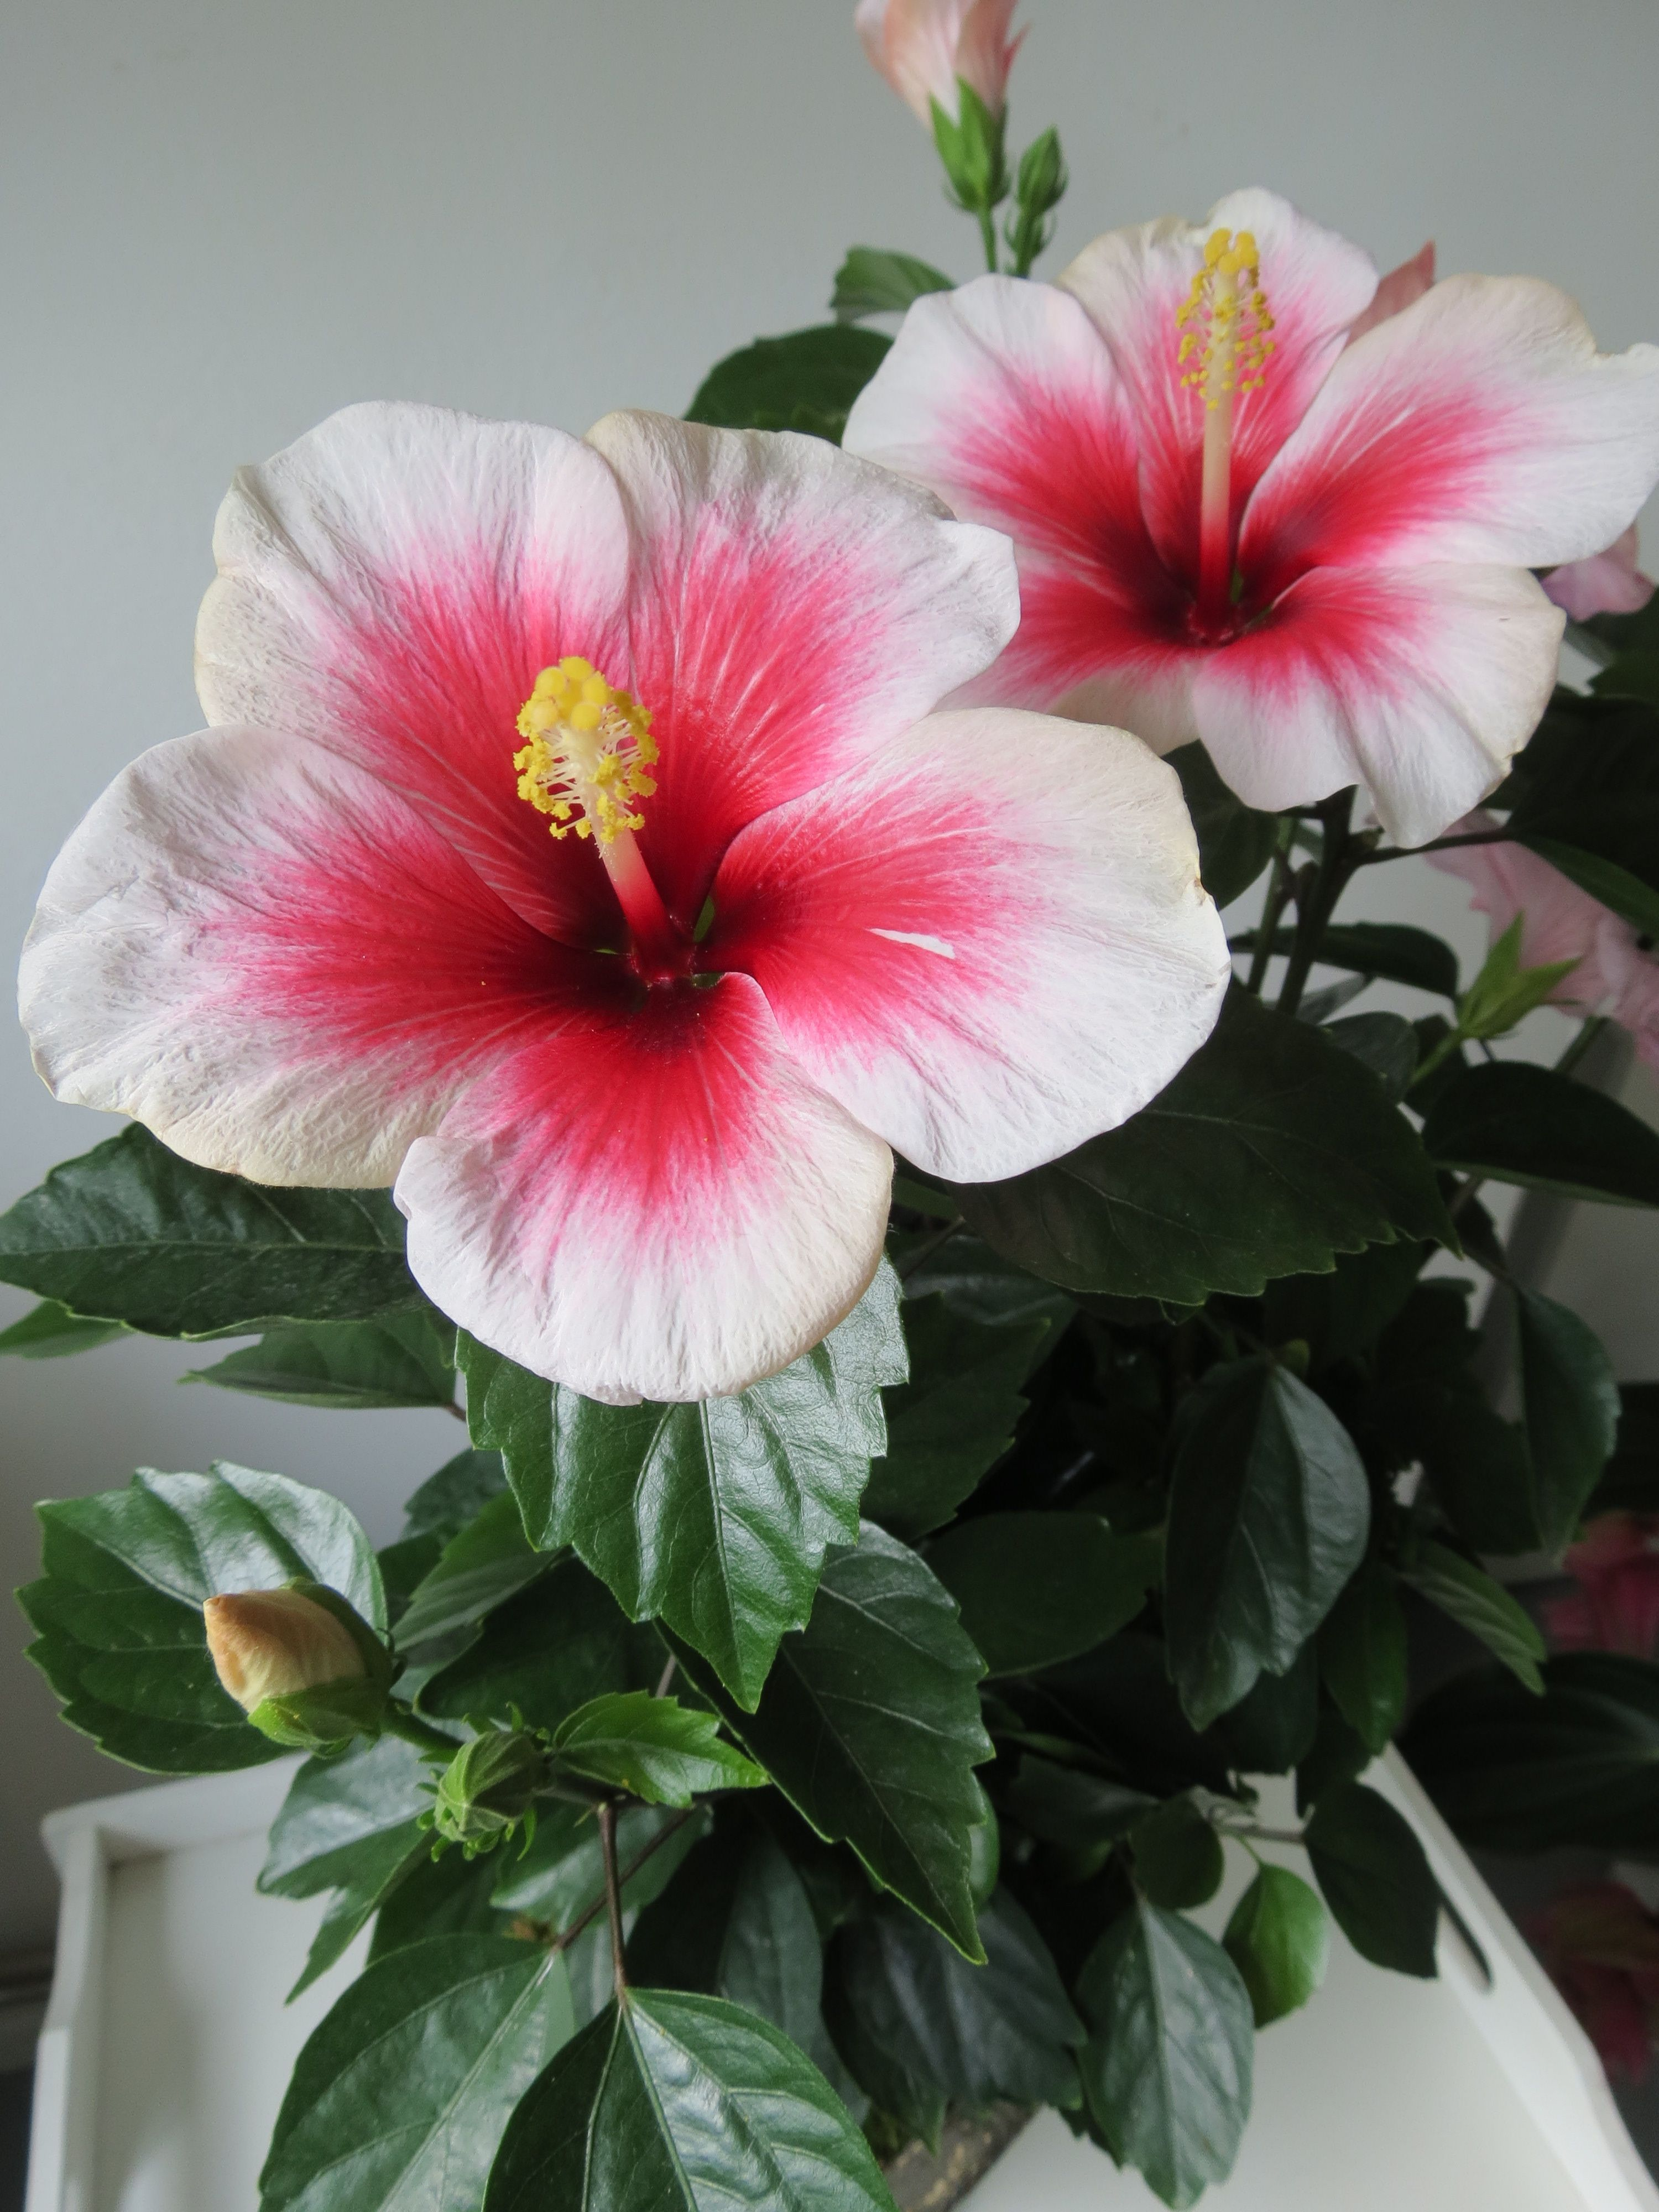Hibiscus: (64, 369, 1185, 1392), (777, 134, 1628, 833), (148, 1524, 535, 1862), (861, 17, 1110, 253)
